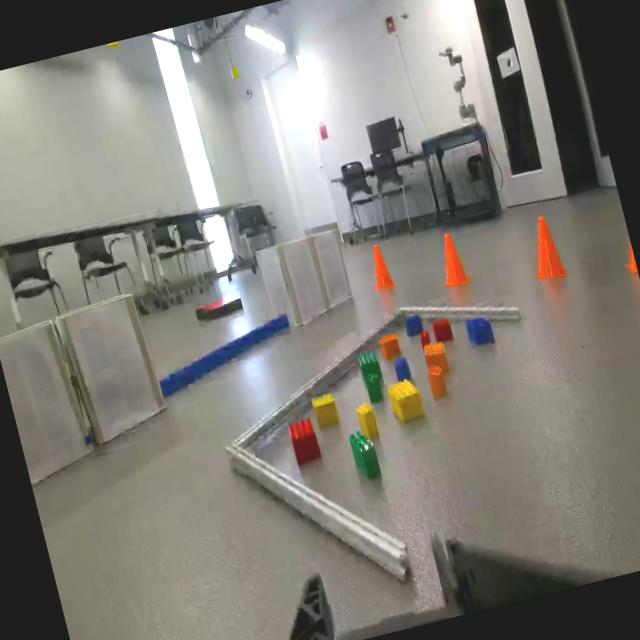block: (386, 376, 429, 427), (312, 391, 340, 428), (356, 403, 380, 440)
blue: (464, 314, 498, 352), (402, 312, 425, 338), (394, 355, 413, 383)
cone: (522, 209, 572, 287), (430, 226, 473, 290), (362, 238, 400, 298)
green: (346, 423, 384, 488), (358, 348, 383, 382), (364, 371, 384, 404)
metal barrier: (200, 277, 580, 624)
orange: (422, 338, 452, 377), (376, 330, 404, 362), (427, 365, 448, 400)
red: (192, 289, 247, 329)
red goal: (286, 414, 322, 467), (432, 316, 454, 344), (420, 327, 432, 348)
river: (152, 312, 304, 403)
storage cube: (52, 293, 172, 446), (0, 319, 97, 482), (252, 232, 332, 334), (308, 223, 356, 310)
